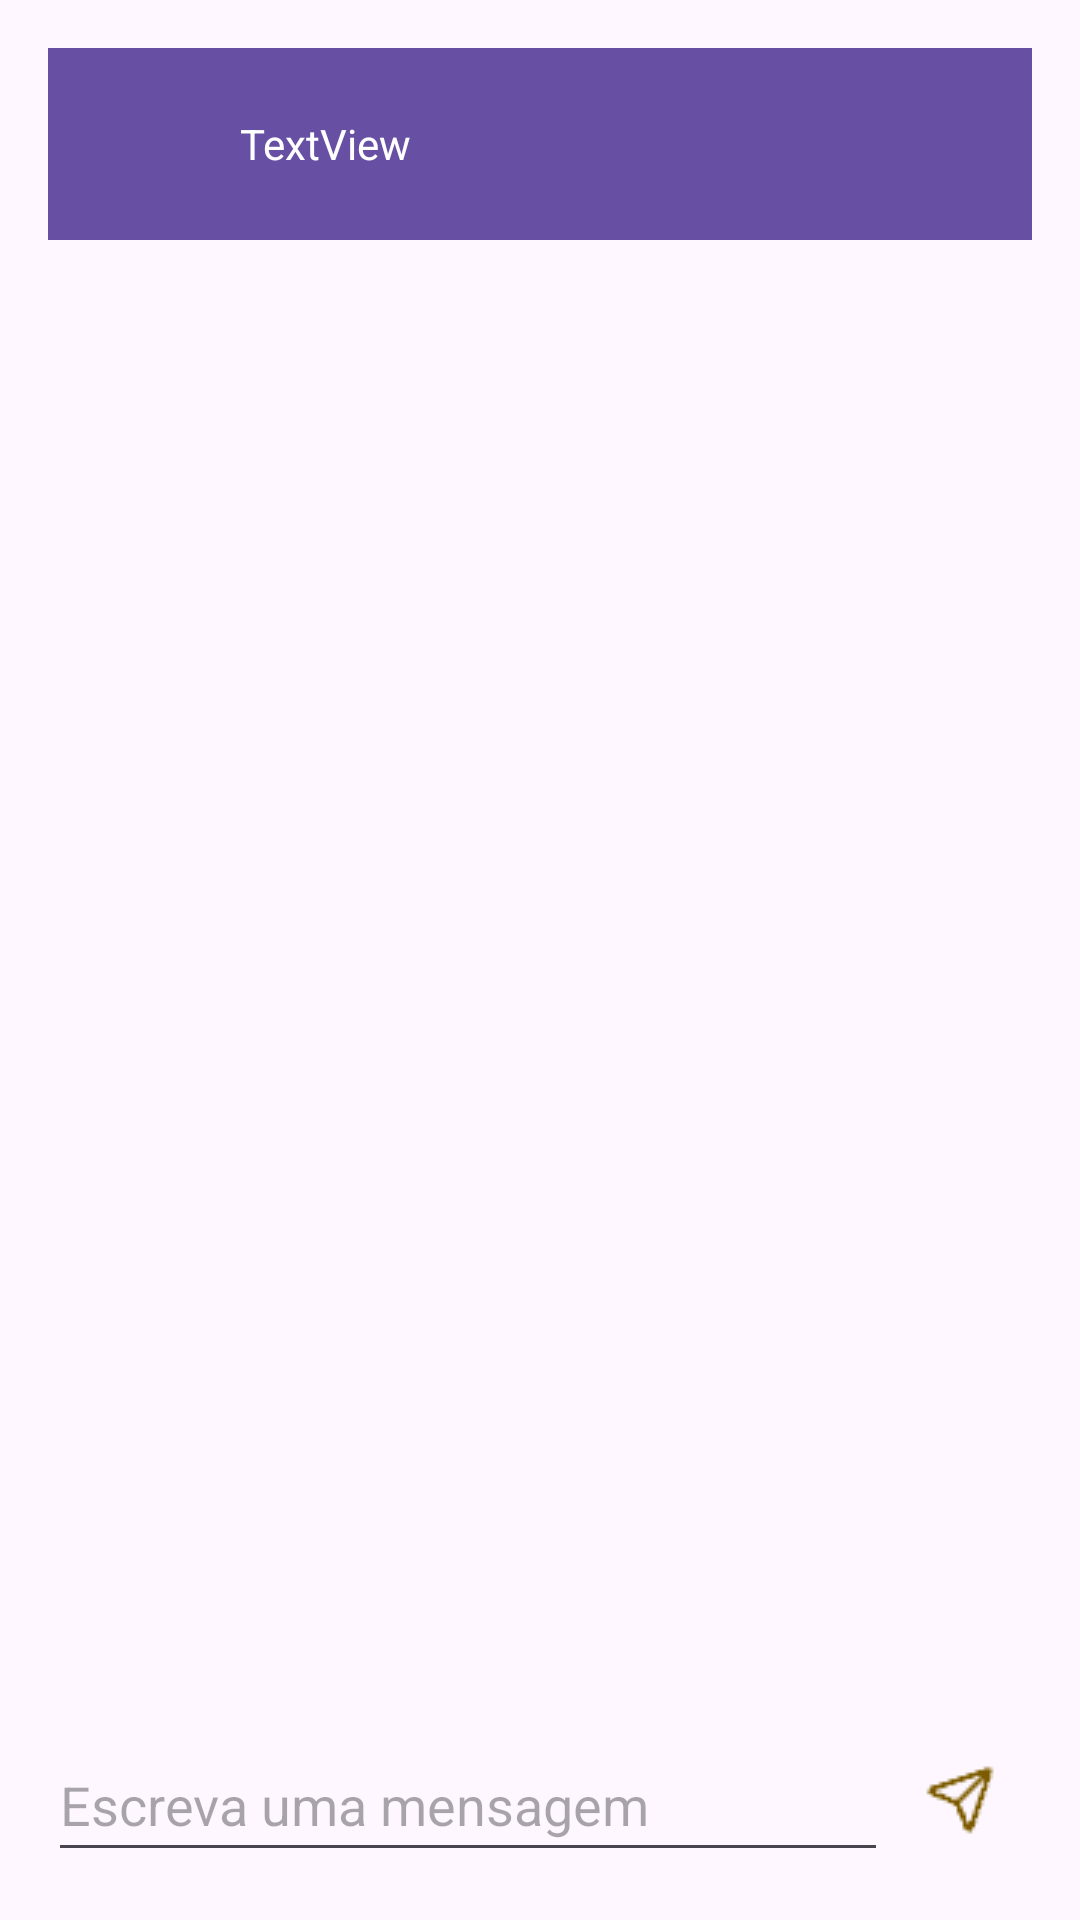

Named icons in this screenshot (1080px×1920px) and their bounding boxes, (x1, y1, x2, y2):
Message send: (926, 1766, 994, 1834)
